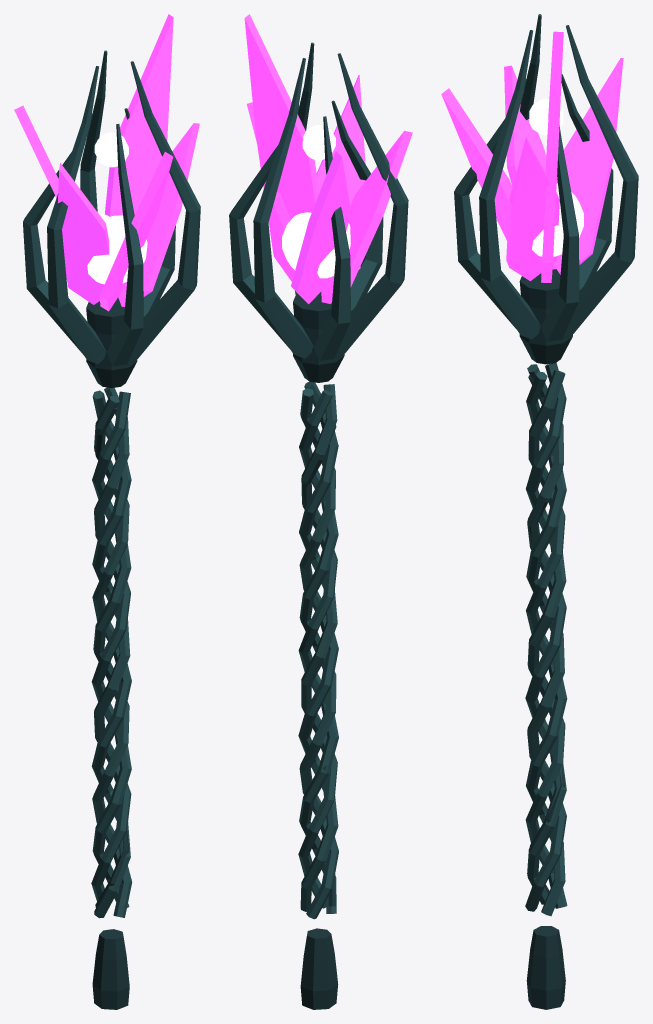
Rendered from staff_duskmagenta.glb.
The picture shows the model from 3 angles, left to right: view 1: azimuth 30°, elevation 25°; view 2: azimuth 150°, elevation 25°; view 3: azimuth 270°, elevation 25°; orthographic projection. The views are drawn at different scales.
Parts seen in each view (by area): view 1: Dm_Flame0, Dm_Teal3, Dm_Tendril5, Dm_Teal1, Dm_Teal0, Dm_Tendril3, Dm_Teal2, Dm_Flame2, Dm_Tendril4, Dm_Flame4, Dm_Butt, Dm_Flame3 (+8 smaller); view 2: Dm_Flame0, Dm_Teal1, Dm_Tendril1, Dm_Teal0, Dm_Tendril3, Dm_Teal3, Dm_Teal2, Dm_Flame1, Dm_Flame2, Dm_Tendril2, Dm_Butt, Dm_Tendril0 (+8 smaller); view 3: Dm_Teal0, Dm_Teal3, Dm_Flame1, Dm_Tendril5, Dm_Tendril1, Dm_Teal1, Dm_Teal2, Dm_Flame4, Dm_Tendril0, Dm_Flame0, Dm_Butt, Dm_Flame3 (+8 smaller).
Part boxes in pixels (<box>): Dm_Flame0: <box>105,14,173,216</box>; Dm_Teal3: <box>92,391,132,917</box>; Dm_Tendril5: <box>130,61,200,358</box>; Dm_Teal1: <box>91,390,131,901</box>; Dm_Teal0: <box>91,387,131,907</box>; Dm_Tendril3: <box>47,66,106,363</box>; Dm_Teal2: <box>91,395,131,918</box>; Dm_Flame2: <box>58,162,109,304</box>; Dm_Tendril4: <box>106,124,143,366</box>; Dm_Flame4: <box>118,123,199,306</box>; Dm_Butt: <box>92,929,129,1009</box>; Dm_Flame3: <box>99,152,173,311</box>; Dm_Flame0: <box>244,14,319,281</box>; Dm_Teal1: <box>299,390,338,919</box>; Dm_Tendril1: <box>253,58,313,358</box>; Dm_Teal0: <box>298,388,338,911</box>; Dm_Tendril3: <box>337,53,408,353</box>; Dm_Teal3: <box>298,381,338,908</box>; Dm_Teal2: <box>298,384,338,913</box>; Dm_Flame1: <box>291,151,351,304</box>; Dm_Flame2: <box>321,130,412,303</box>; Dm_Tendril2: <box>313,116,350,360</box>; Dm_Butt: <box>300,928,338,1009</box>; Dm_Tendril0: <box>229,106,299,348</box>; Dm_Teal0: <box>526,370,567,916</box>; Dm_Teal3: <box>525,371,566,911</box>; Dm_Flame1: <box>553,58,623,274</box>; Dm_Tendril5: <box>479,30,540,339</box>; Dm_Tendril1: <box>566,25,638,333</box>; Dm_Teal1: <box>525,362,567,908</box>; Dm_Teal2: <box>525,364,566,904</box>; Dm_Flame4: <box>506,137,559,281</box>; Dm_Tendril0: <box>541,125,579,341</box>; Dm_Flame0: <box>541,31,563,282</box>; Dm_Butt: <box>526,926,565,1009</box>; Dm_Flame3: <box>441,88,512,240</box>.
Size of the model in its own units: 0.4279 by 2.54 by 0.4529.
